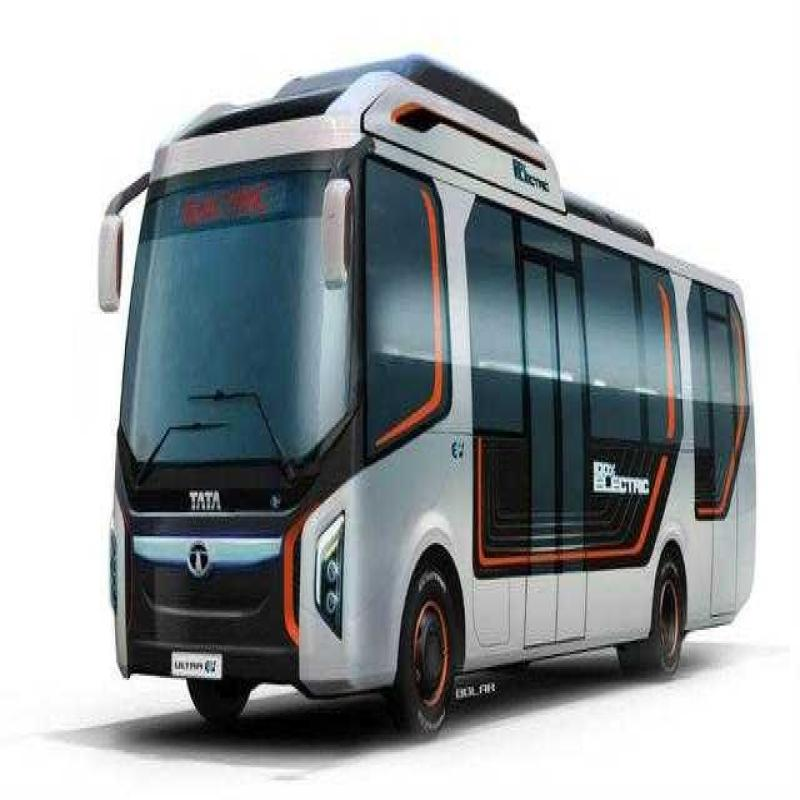bus: (95, 49, 800, 800)
